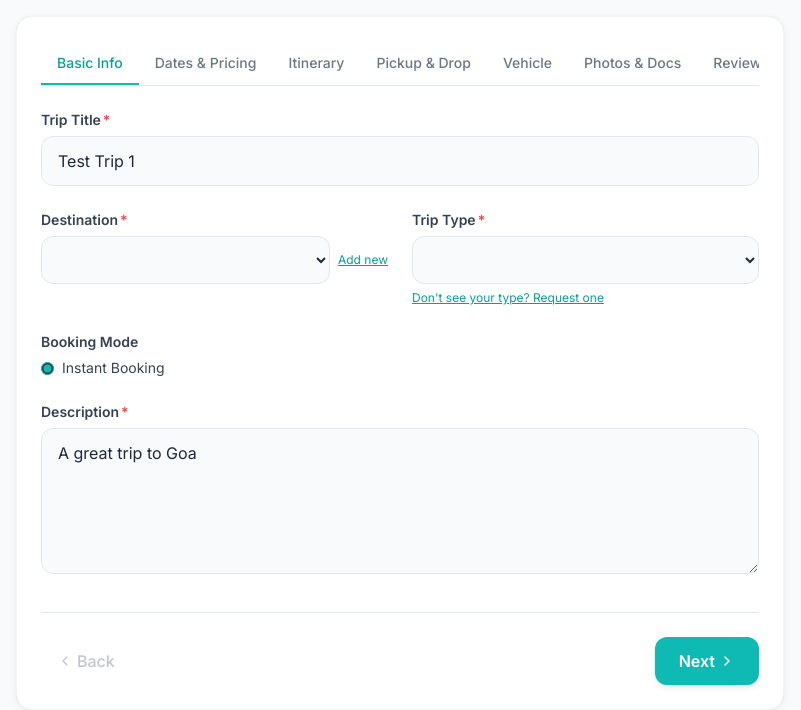
Test: EditTripPage — commissionRate pre-fill regression (P0 snapshot bug) › uses the TRIP's own frozen commissionRate for the earning pre-fill, not the organizer's current (different) profile rate
(page scrolled)
Click the button "Next" at (707, 661), box [655,637,759,685]
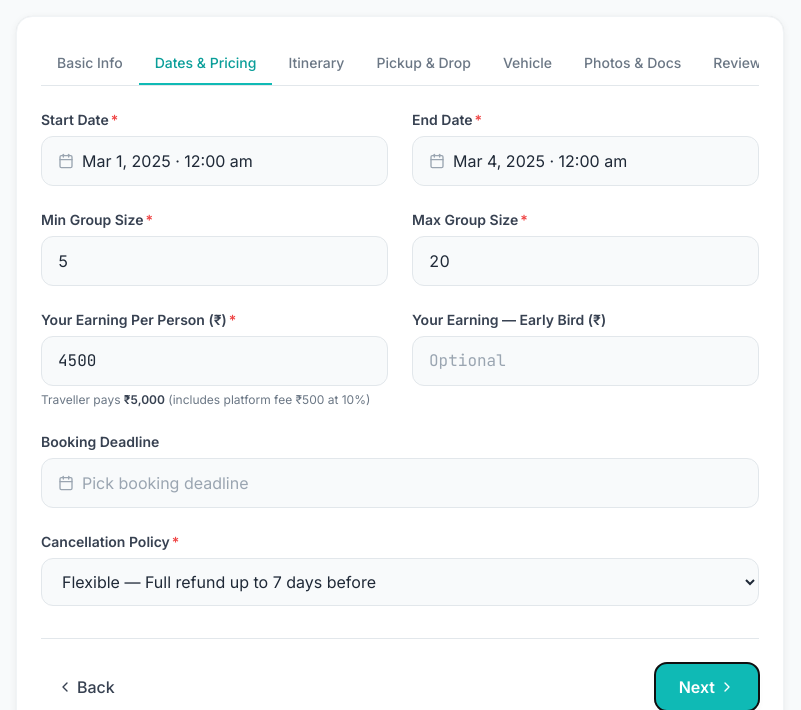
expect the field with placeholder "e.g. 4050" below "Your Earning Per Person (₹)" holds "4500": met, box [41,336,388,386]
expect the element showing "Traveller pays ₹5,000 (includes platform fee ₹500 at 10%)" is shown: met, box [41,392,388,408]
